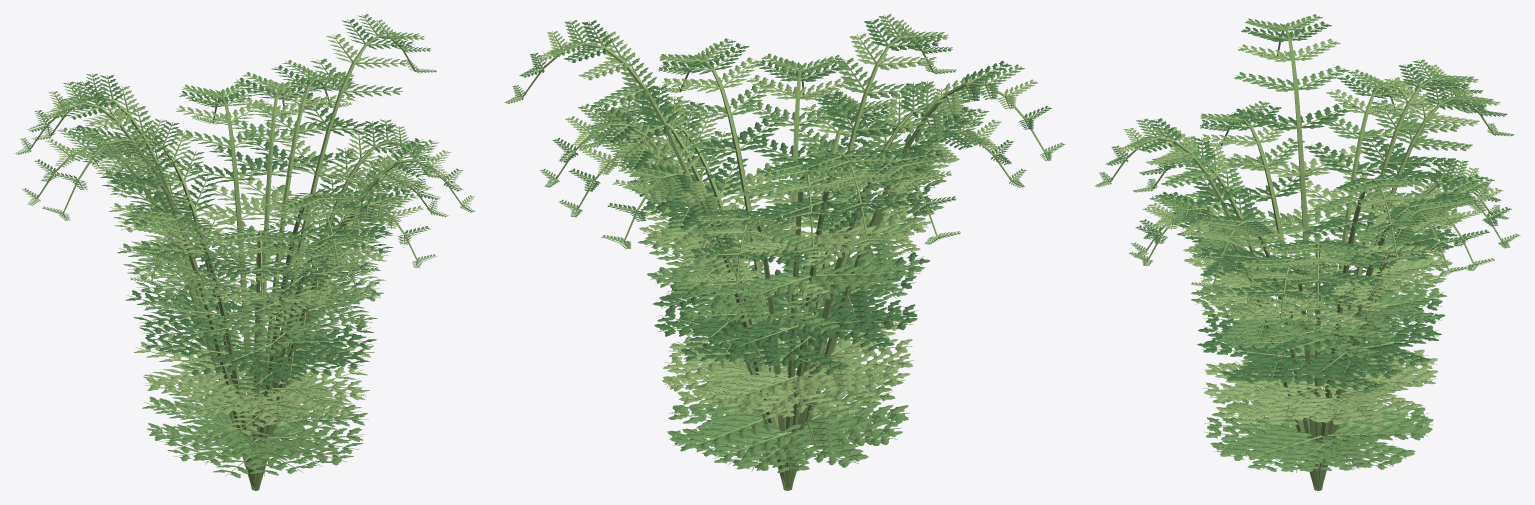
File: fern-clump.glb
3 renders of one model, left to right at view 1: azimuth 30°, elevation 25°; view 2: azimuth 150°, elevation 25°; view 3: azimuth 270°, elevation 25°, orthographic. The views are drawn at different scales.
Parts seen in each view (by area): view 1: fern-clump; view 2: fern-clump; view 3: fern-clump.
Part boxes in pixels (x1,y1,x2,y2): fern-clump: (14, 14, 475, 490); fern-clump: (504, 14, 1065, 490); fern-clump: (1094, 14, 1520, 490).
Bounding box in the file's own units: 0.75 × 0.65 × 0.65.
